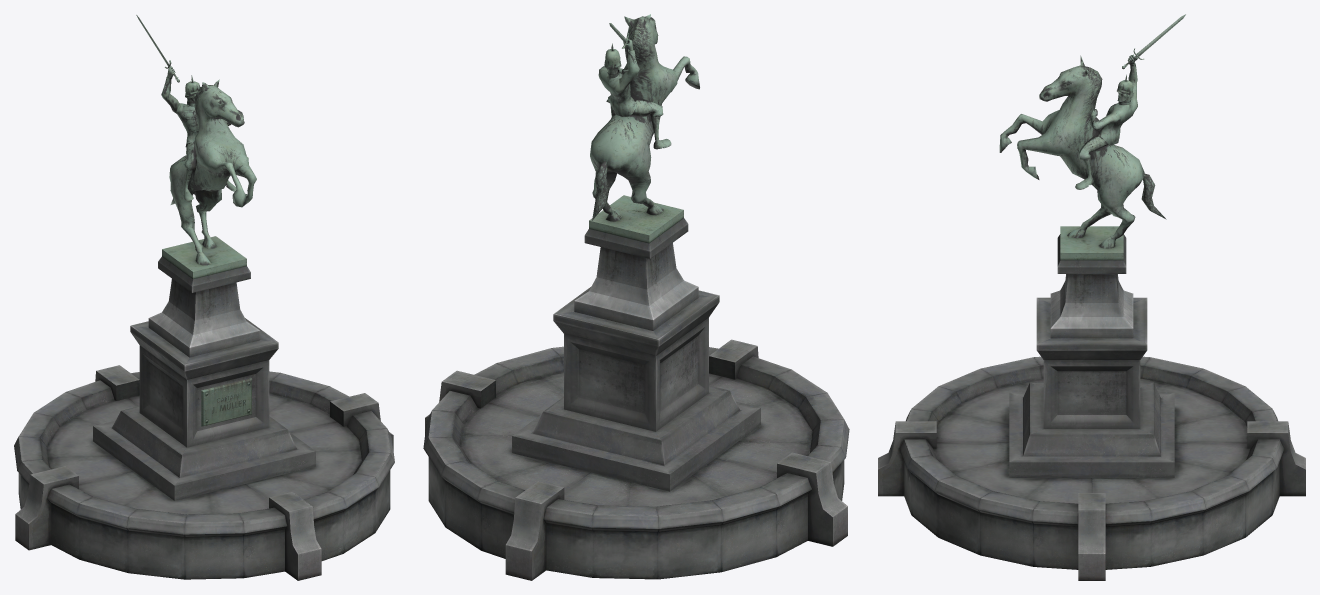
The model's file is statue_01.fbx.
3 renders of one model, left to right at view 1: azimuth 30°, elevation 25°; view 2: azimuth 150°, elevation 25°; view 3: azimuth 270°, elevation 25°, orthographic. The views are drawn at different scales.
Visible parts, largest first — view 1: GEOM0_LOD0; view 2: GEOM0_LOD0; view 3: GEOM0_LOD0.
Part boxes in pixels (x1=…): GEOM0_LOD0: x1=14, y1=15, x2=394, y2=580; GEOM0_LOD0: x1=423, y1=14, x2=849, y2=580; GEOM0_LOD0: x1=878, y1=14, x2=1305, y2=580.
Size of what is drawn, in the model's own units: 620 by 745 by 620.
